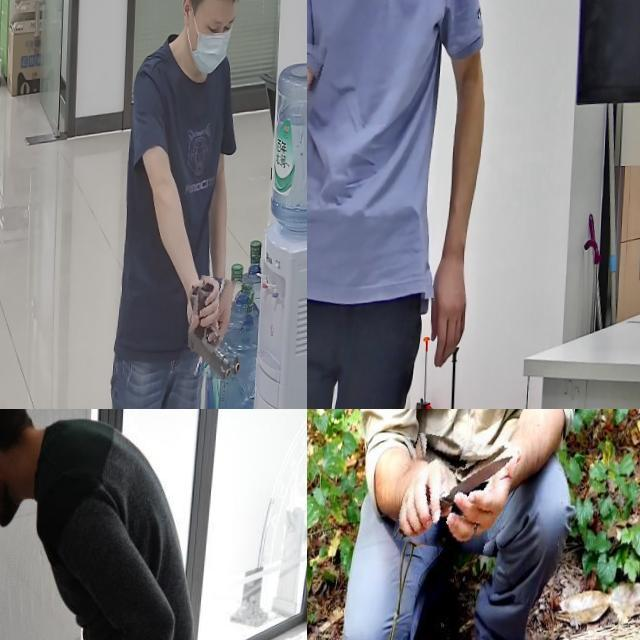-: (401, 438, 518, 560)
gun-knife-thesis - v11 Yolov5 augmented: (307, 32, 367, 209), (184, 280, 252, 386)
